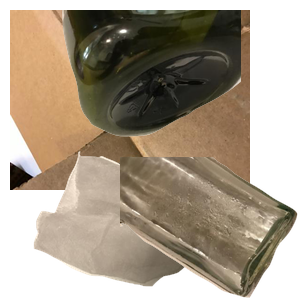cardboard: (10, 10, 250, 190)
glass: (120, 157, 300, 300)
plastic: (60, 10, 300, 139)
trash: (31, 149, 268, 300)
